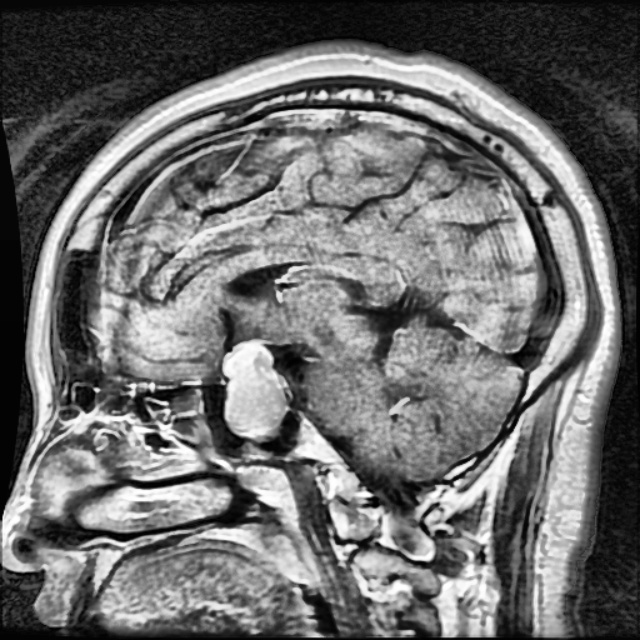Pituitary: (223, 345, 287, 434)
